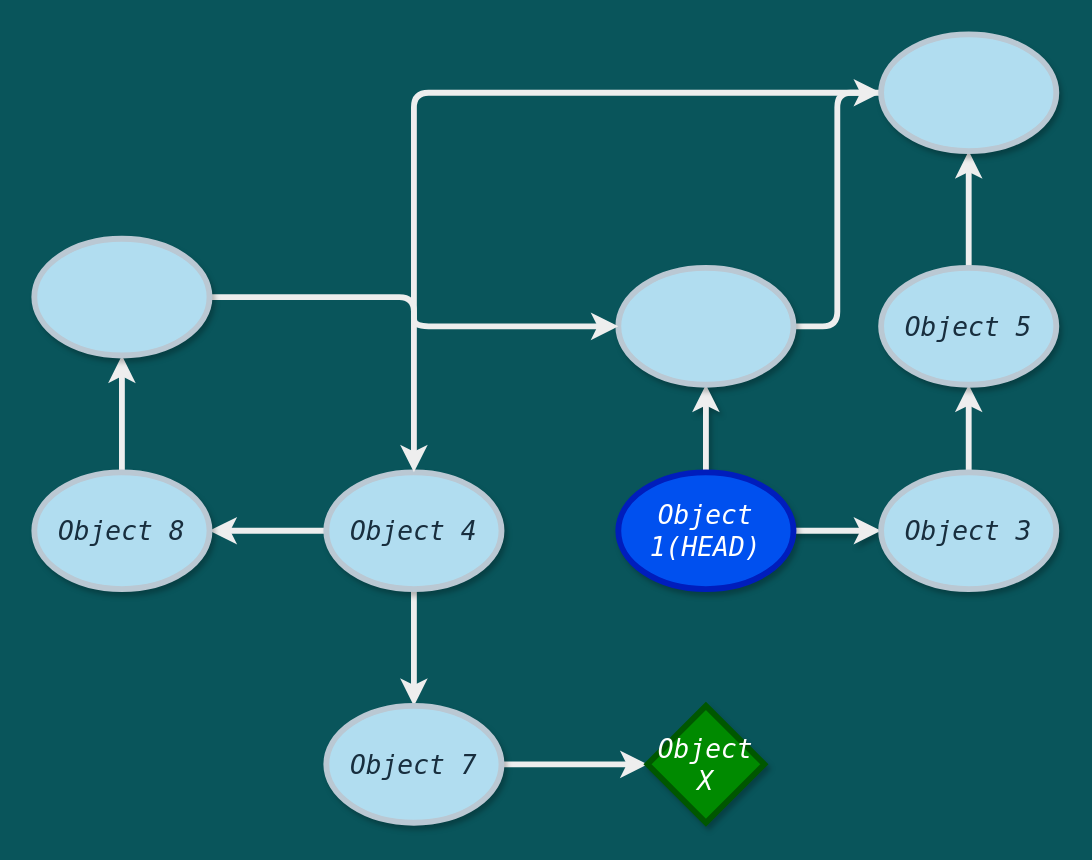
This 1092x860 diagram has some shape labels left out. Here are the shapes that lost their labels. From the top down, the centre of each, then its label:
At [969,94]: "Object 6".
At [122,298]: "Object 9".
At [706,327]: "Object 2".
